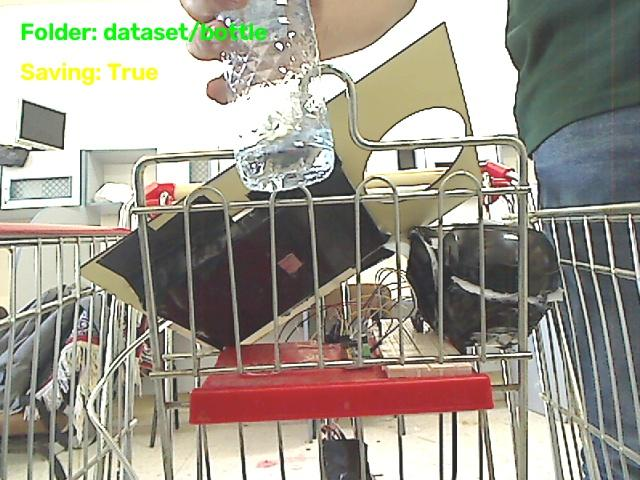Bottle: (225, 0, 333, 192)
